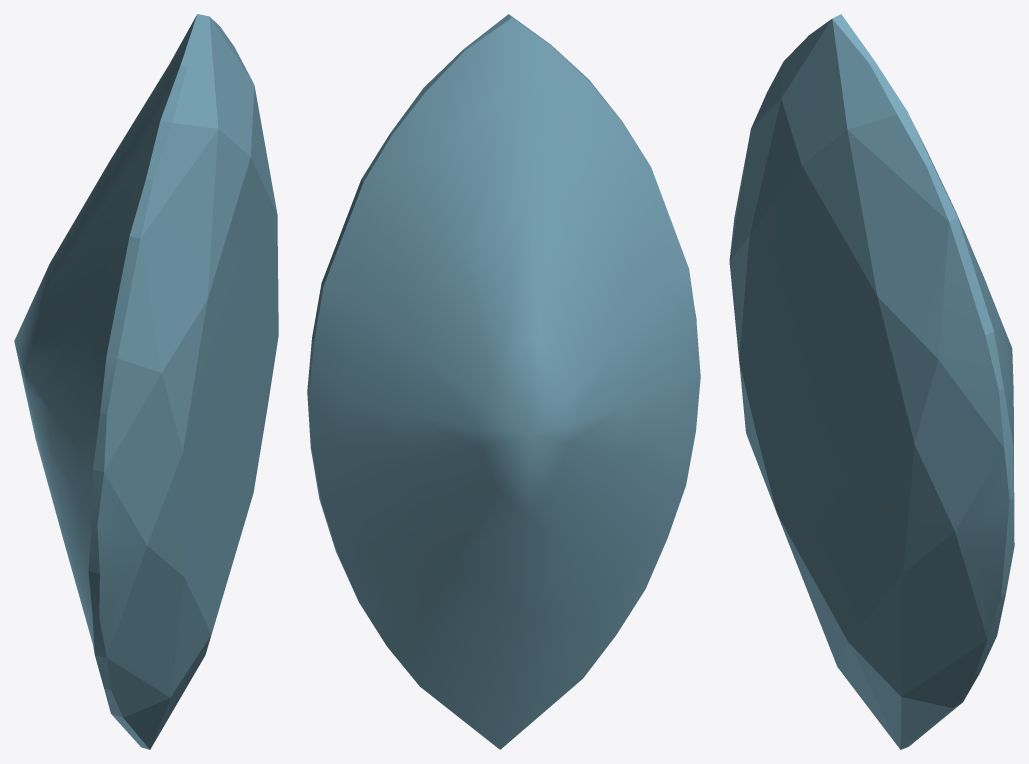
The model's file is BR3_8shapes_Marquise_Classic_Stone.001 3.glb.
3 views of the same model, side by side, from view 1: azimuth 30°, elevation 25°; view 2: azimuth 150°, elevation 25°; view 3: azimuth 270°, elevation 25° (orthographic). The views are drawn at different scales.
Parts seen in each view (by area): view 1: BR3_8shapes_Marquise_Classic_Stone.001; view 2: BR3_8shapes_Marquise_Classic_Stone.001; view 3: BR3_8shapes_Marquise_Classic_Stone.001.
Part boxes in pixels (x1,y1,x2,y2): BR3_8shapes_Marquise_Classic_Stone.001: [14, 14, 278, 749]; BR3_8shapes_Marquise_Classic_Stone.001: [307, 14, 700, 749]; BR3_8shapes_Marquise_Classic_Stone.001: [729, 14, 1014, 749].
Size of the model in its own units: 0.2812 by 0.6993 by 0.2427.
